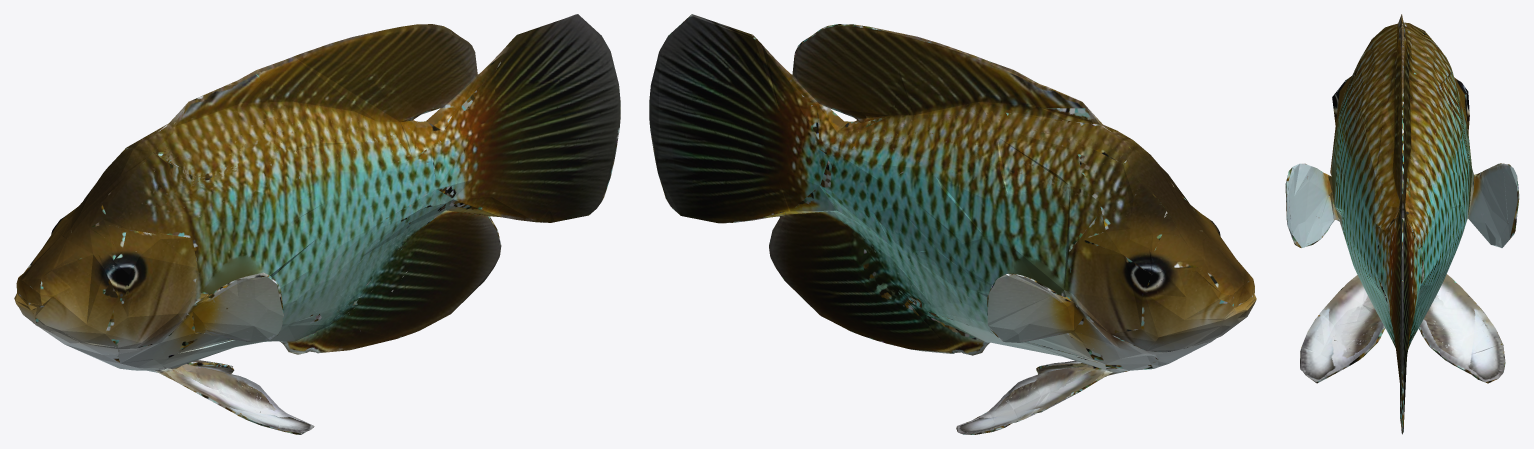
The model's file is fish_0102_smpl23_resized.glb.
3 renders of one model, left to right at view 1: azimuth 30°, elevation 25°; view 2: azimuth 150°, elevation 25°; view 3: azimuth 270°, elevation 25°, orthographic. The views are drawn at different scales.
Parts seen in each view (by area): view 1: world; view 2: world; view 3: world.
Boxes of the visible parts, x1,y1,x2,y2 form: world: (14,14,620,434); world: (649,14,1256,434); world: (1285,14,1519,434).
Size of the model in its own units: 1.99 by 1.08 by 0.6497.
1 material, 1 textured.
